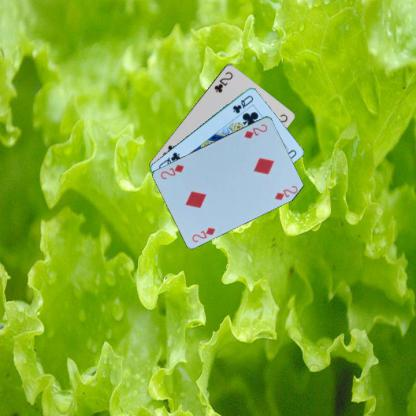2c: (211, 68, 234, 94)
2d: (242, 121, 269, 140), (190, 224, 216, 243)
Qc: (230, 92, 255, 115)
